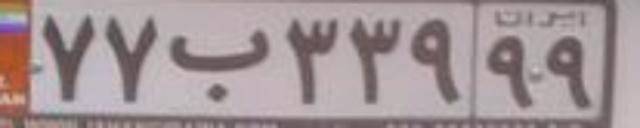3: (282, 17, 341, 104), (350, 16, 403, 104)
7: (39, 13, 95, 103), (104, 13, 159, 103)
9: (408, 19, 460, 104), (546, 35, 594, 108), (486, 35, 533, 108)
be: (166, 30, 273, 103)
